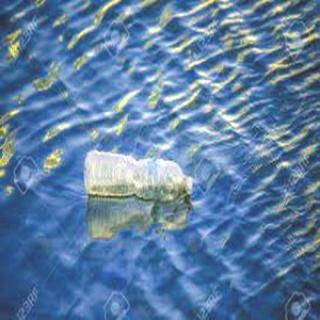Plastic: (83, 147, 193, 201)
